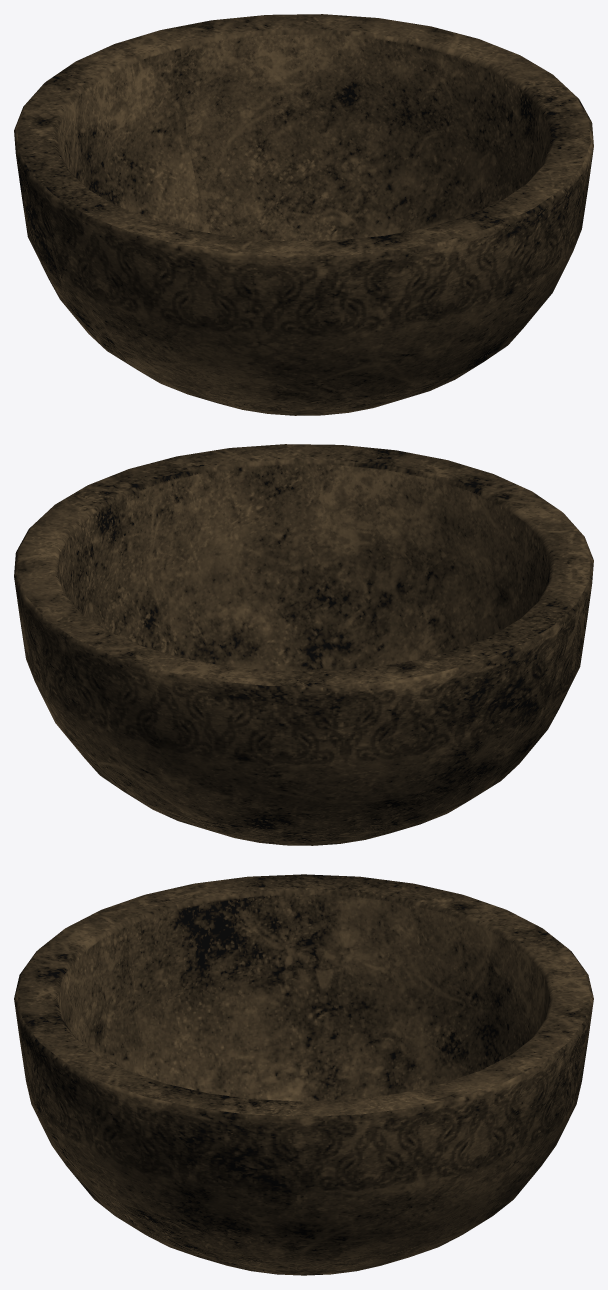
File: decretive_medieval_bowl_free.glb
3 views of the same model, one above another, from view 1: azimuth 30°, elevation 25°; view 2: azimuth 150°, elevation 25°; view 3: azimuth 270°, elevation 25° (orthographic).
Visible parts, largest first — view 1: Object_2; view 2: Object_2; view 3: Object_2.
Part boxes in pixels (x1,y1,x2,y2): Object_2: (14,14,593,415); Object_2: (14,444,593,845); Object_2: (14,874,593,1275).
Bounding box in the file's own units: 43.74 × 20.1 × 43.74.
Materials: 1 (1 with a texture image).
